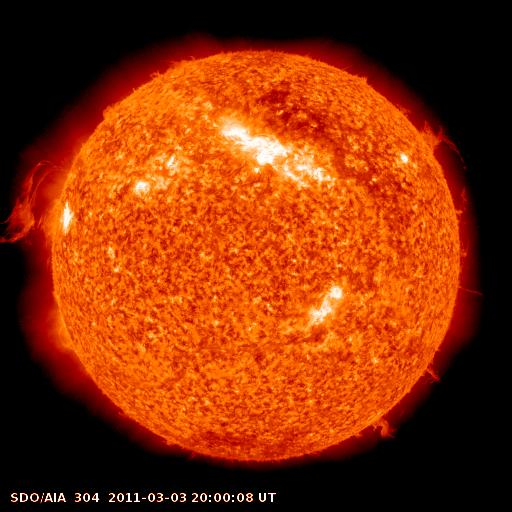prominence: (389, 94, 481, 222), (1, 152, 88, 254), (447, 235, 493, 310), (348, 396, 411, 450), (143, 50, 211, 84), (408, 349, 456, 392), (89, 91, 133, 128)
